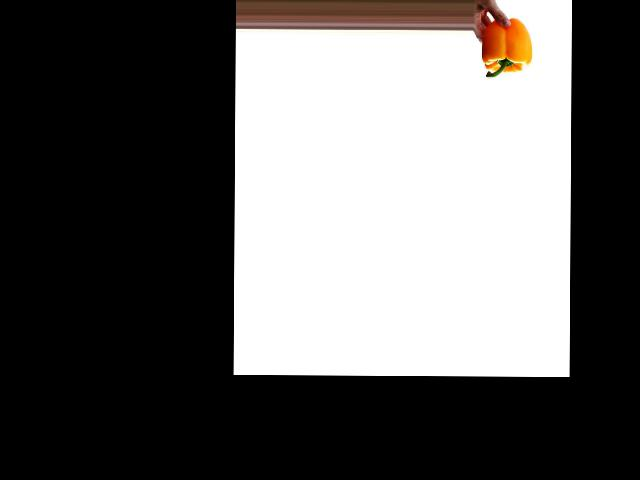bell_pepper: (481, 17, 533, 80)
